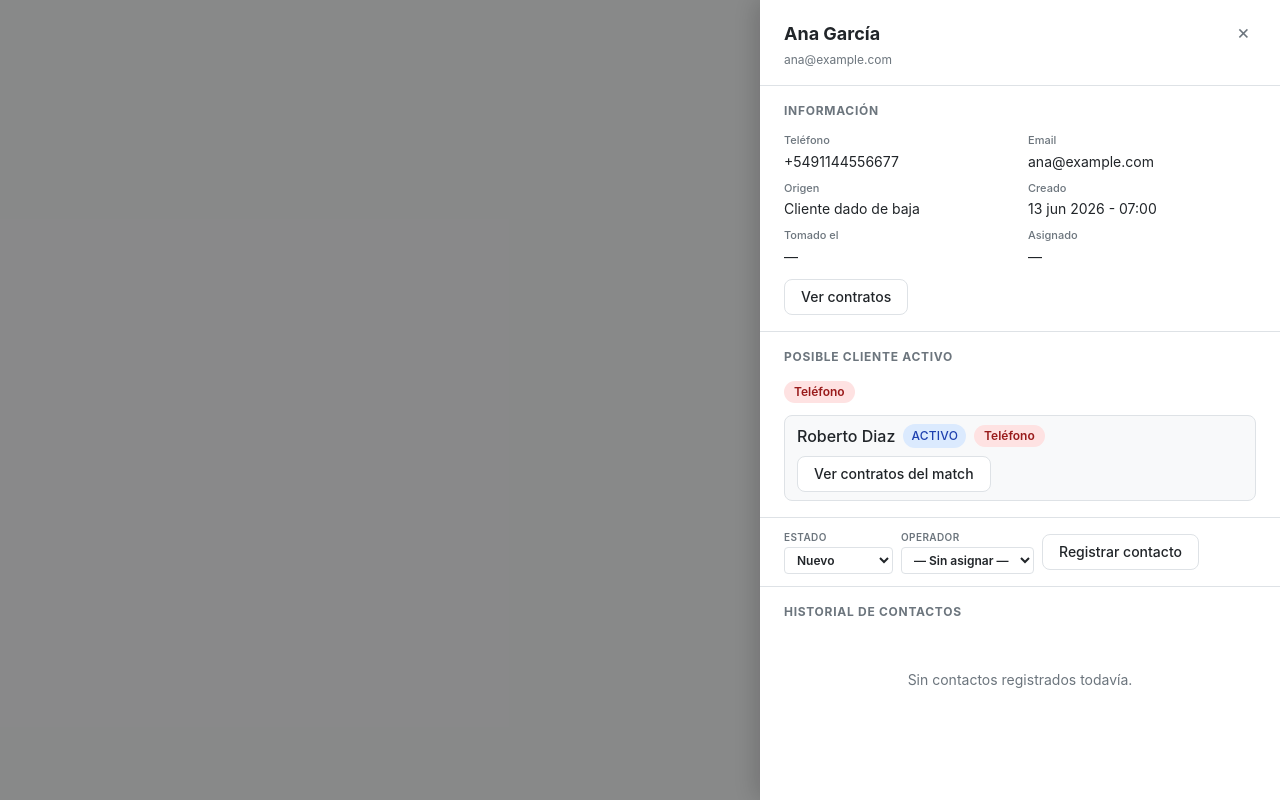
Test case: LeadDetailDrawer — possible active match section (S13a/S13b) › MS3 (S13a) — renders a matched client (name/status/matchedBy) and opens ContractHistoryModal for THAT client id, not the lead's own
Expected: the text "Roberto Diaz" is shown, [797,424,895,448]
Expected: the text "Teléfono" is shown 2 times, [784,380,855,402]; [974,424,1045,446]
Click the button "Ver contratos del match": x=894, y=474 [797,456,991,492]
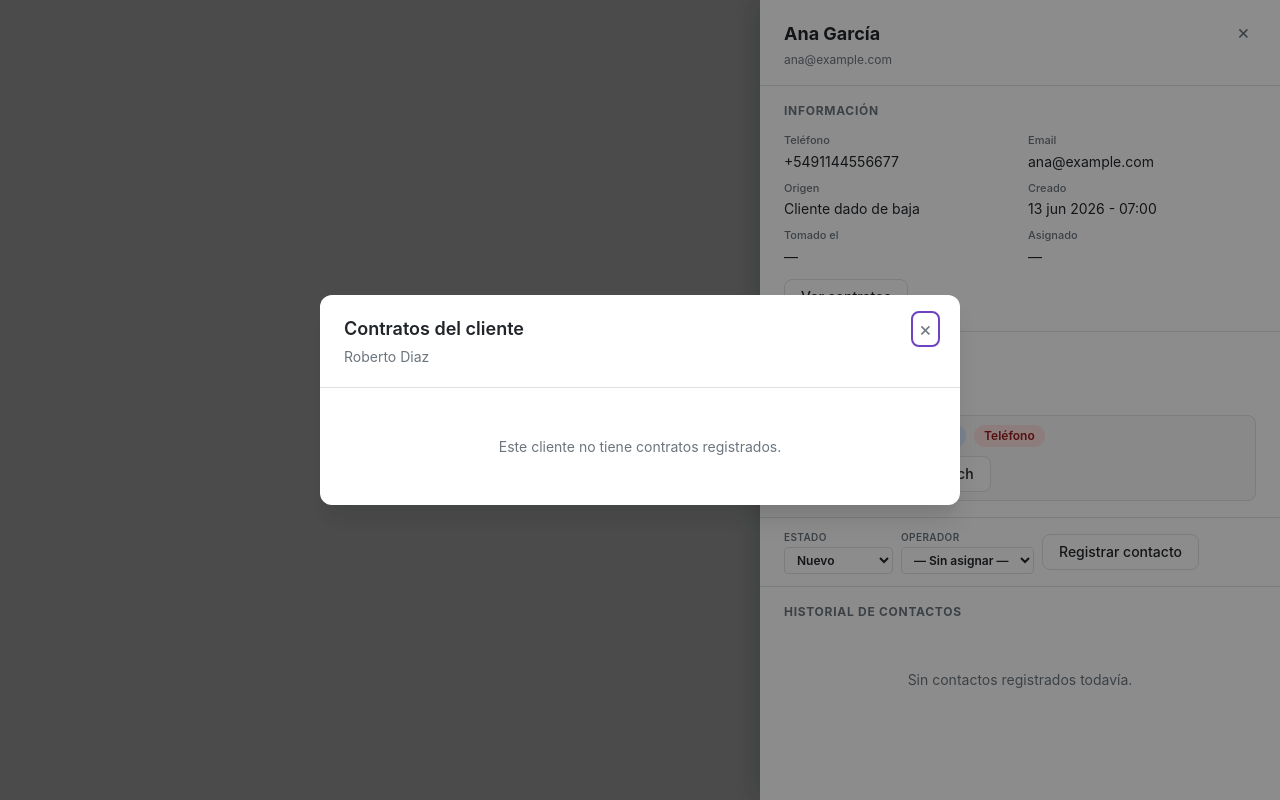
Now the text "Roberto Diaz" is shown, box [344,348,429,365]
